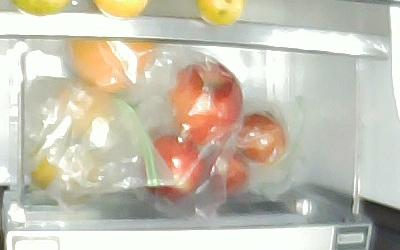apple_vinyl: (166, 60, 243, 145), (143, 135, 207, 198)
grapefruit_vinyl: (62, 38, 158, 92)
prune_vinyl: (235, 113, 291, 166), (200, 143, 250, 195)
